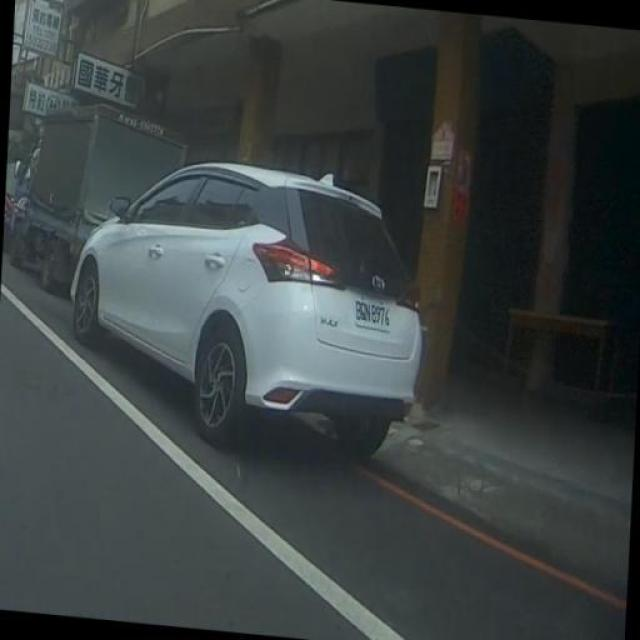illegalparking: (52, 123, 534, 467)
